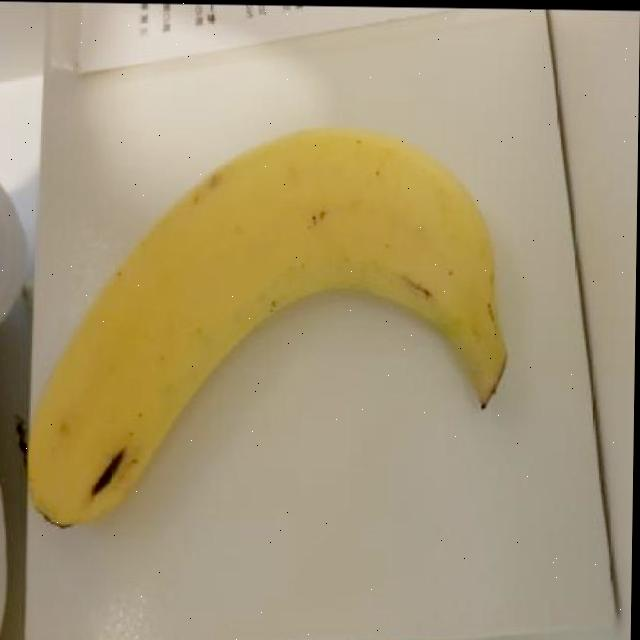banana: (27, 115, 520, 550)
